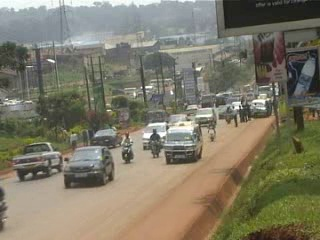Car: (62, 143, 116, 190), (140, 120, 170, 151), (92, 127, 124, 151), (196, 106, 218, 126), (216, 103, 234, 120), (229, 98, 243, 114), (185, 103, 202, 115)
Motorcycle: (147, 128, 164, 159), (119, 132, 136, 163), (204, 116, 218, 141), (223, 106, 235, 125)
